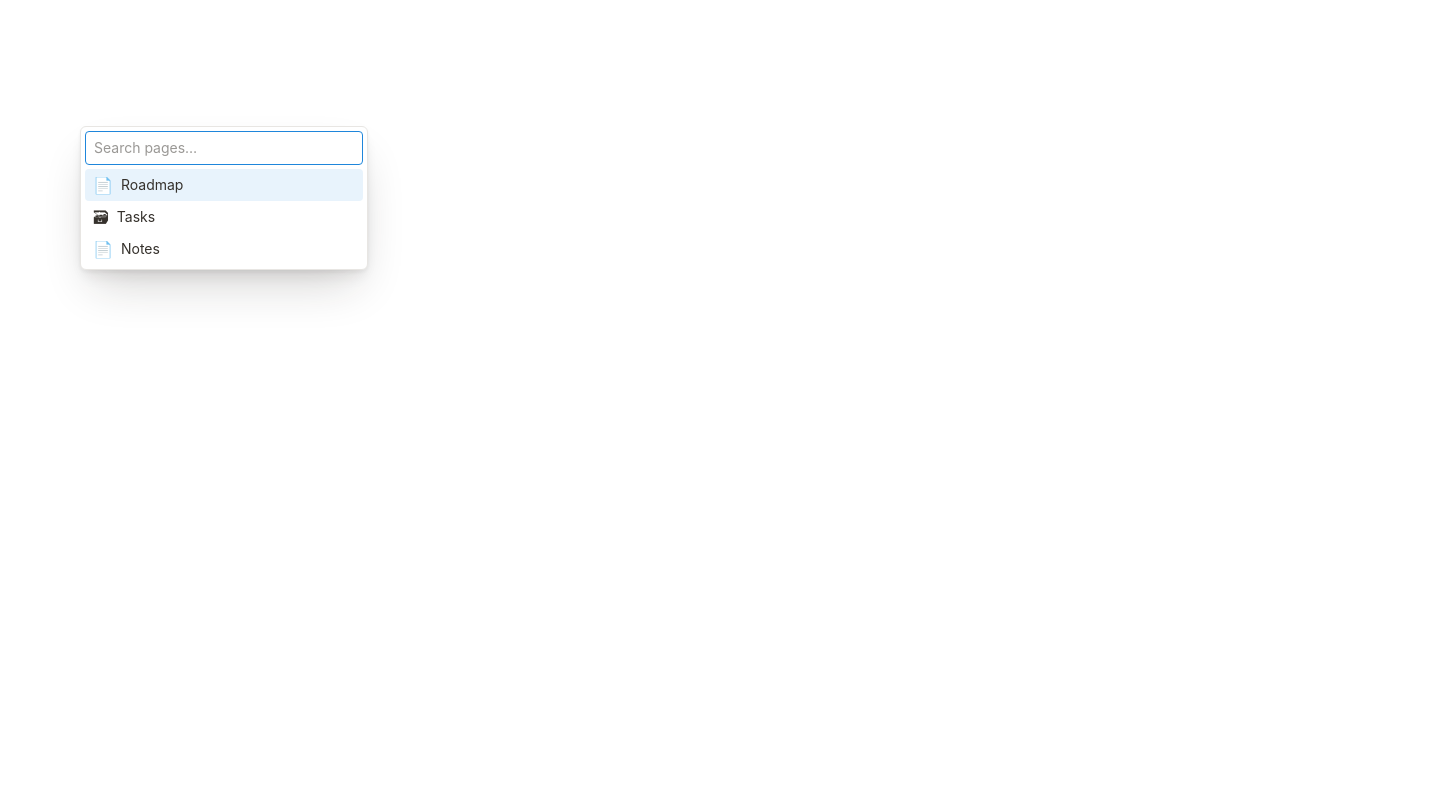
LinkPicker › filters by the search query
Type "note" into the dropdown at (224, 148), box [85,131,363,165]
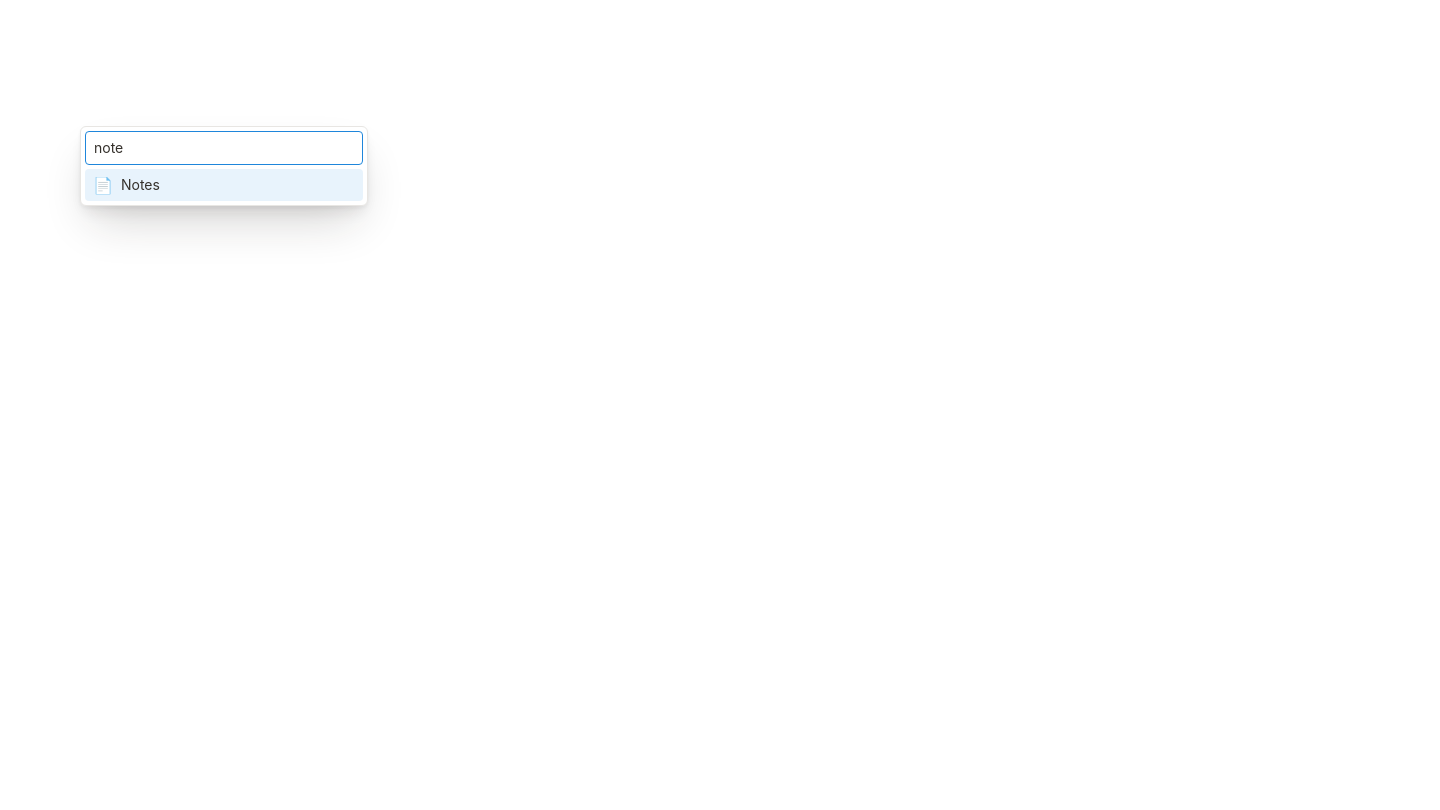
Expected: the text "Notes" is shown, [121,175,160,195]
Expected: the option "Roadmap" is gone
